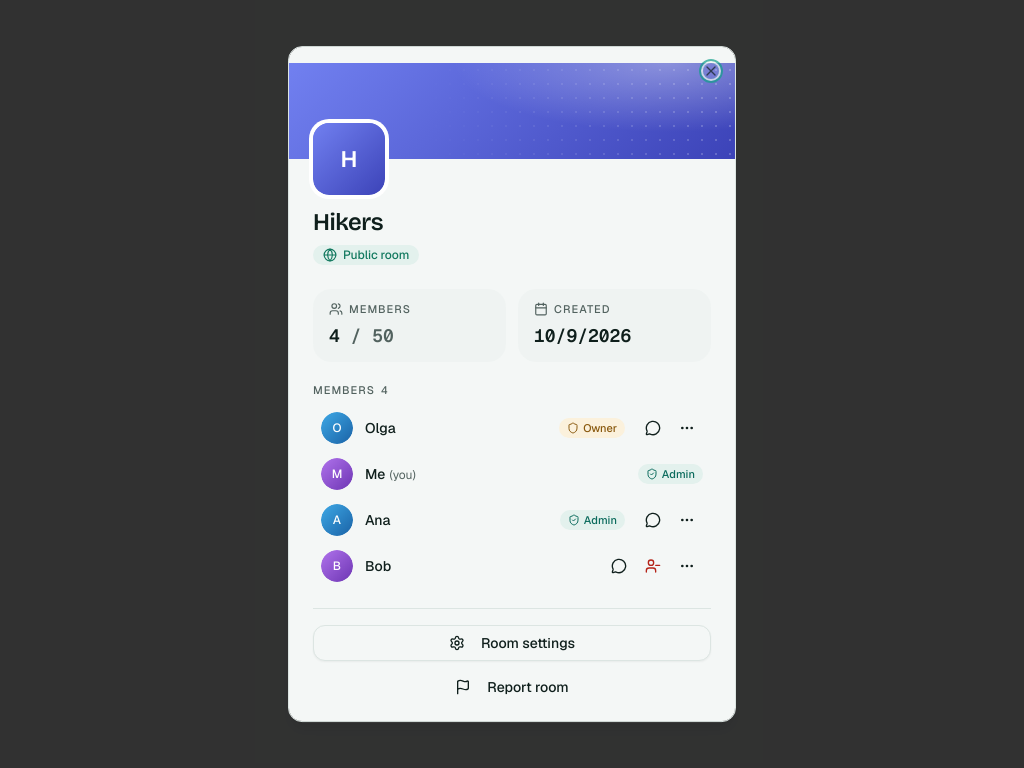
RoomPanel roles › render_admin_removesMembersOnlyAndCannotChangeRoles
The width and height of the screenshot is (1024, 768).
Check: the text "Bob" is shown, box [365, 557, 391, 575]
Check: the button named "Remove Bob" is shown, box [637, 550, 669, 582]
Note: ADMIN may edit the room but not delete it.
Click the button "Room settings" at (512, 643), box [313, 625, 711, 661]
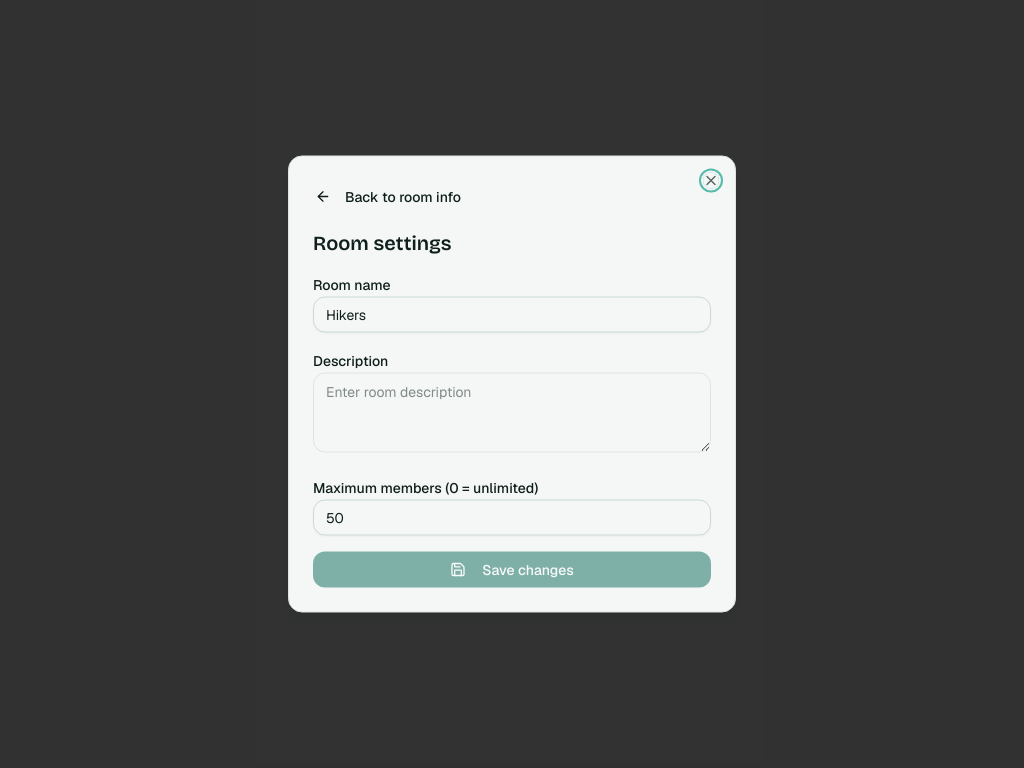
Check: the field labelled "Room name" is shown, box [313, 296, 711, 332]
